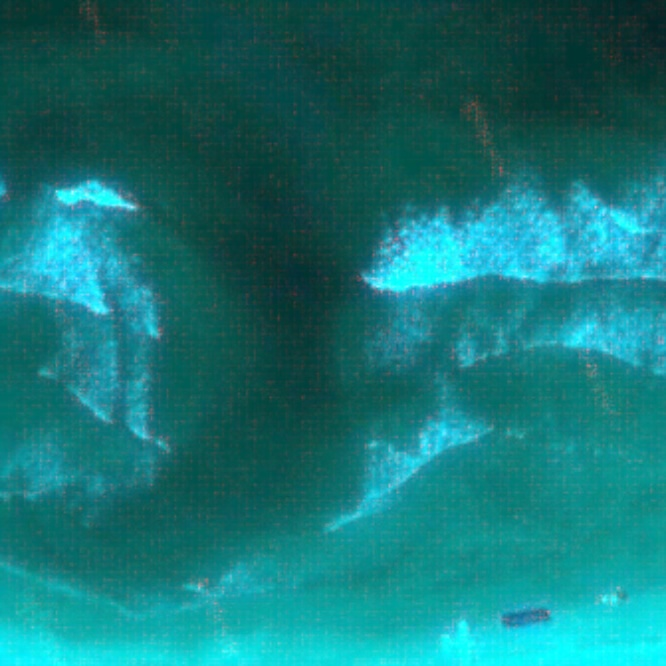rip_current: (66, 103, 442, 542)
